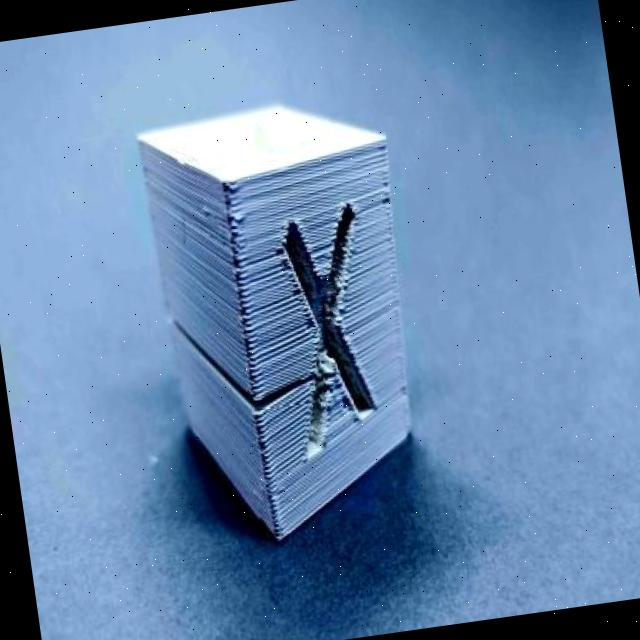cracks: (162, 306, 222, 384), (276, 360, 328, 416), (234, 381, 281, 424)
